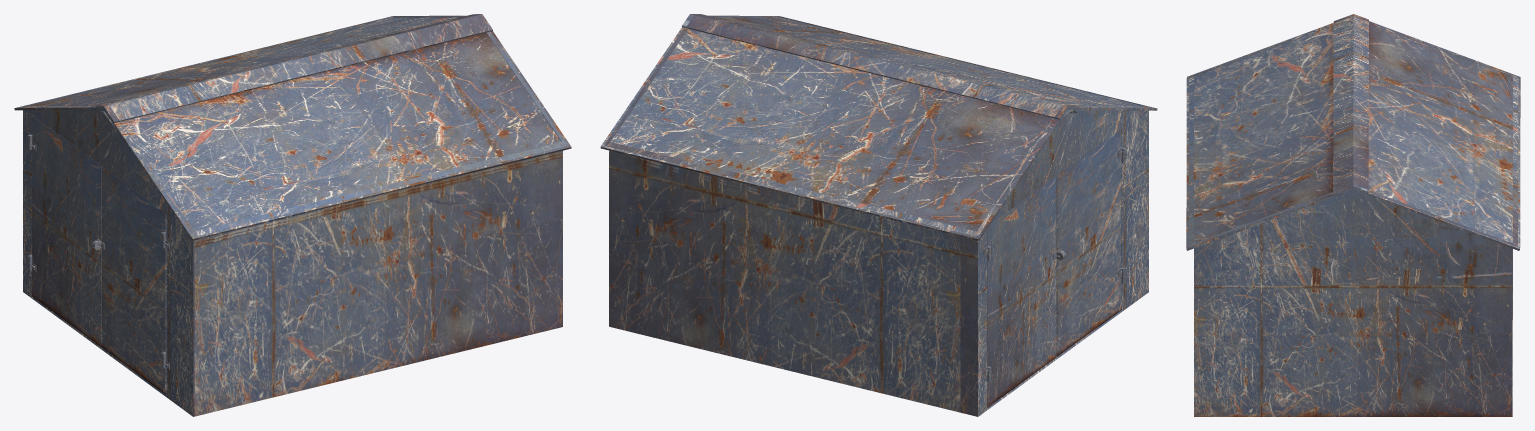
The model's file is Garazh_met_4.fbx.
The picture shows the model from 3 angles, left to right: view 1: azimuth 30°, elevation 25°; view 2: azimuth 150°, elevation 25°; view 3: azimuth 270°, elevation 25°; orthographic projection. The views are drawn at different scales.
Visible parts, largest first — view 1: Plane.001, Cube.014, Cube.002; view 2: Plane.001, Cube.014, Cube.002; view 3: Plane.001.
Part boxes in pixels (<box>): Plane.001: <box>14,14,571,416</box>; Cube.014: <box>28,115,101,346</box>; Cube.002: <box>93,166,166,394</box>; Plane.001: <box>600,14,1157,416</box>; Cube.014: <box>987,176,1064,407</box>; Cube.002: <box>1056,129,1125,356</box>; Plane.001: <box>1186,14,1520,416</box>.
Size of the model in its own units: 258 by 161 by 210.
